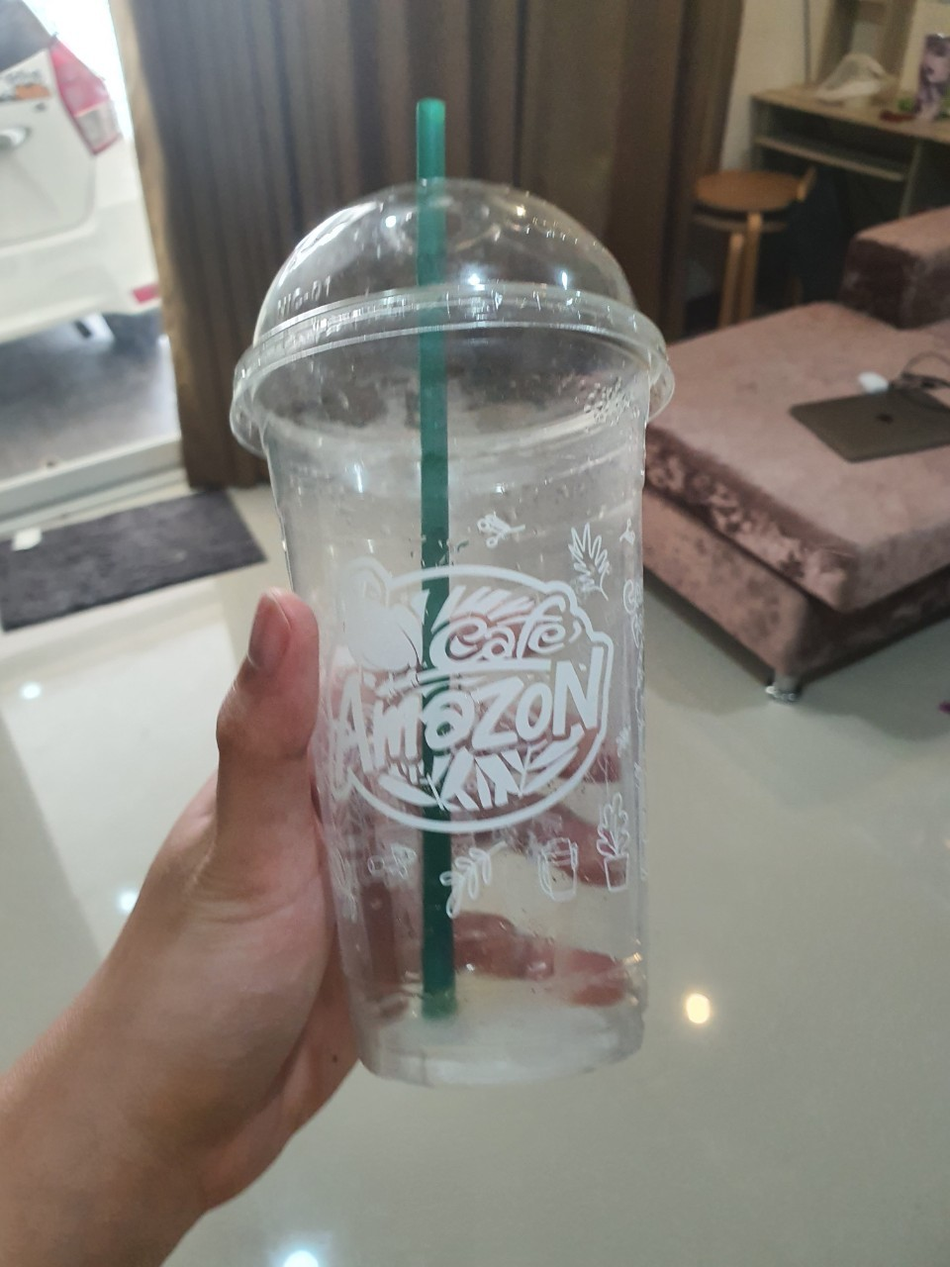plastic: (198, 90, 682, 1090)
